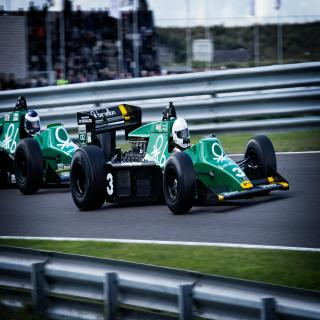Normal_vehicle: (70, 104, 290, 215), (0, 95, 90, 192)
